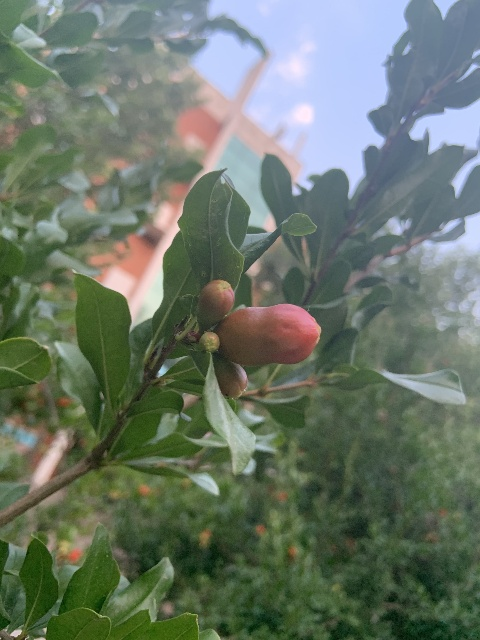bud: (218, 301, 320, 365), (197, 279, 234, 323), (213, 358, 247, 398), (201, 331, 219, 350)
